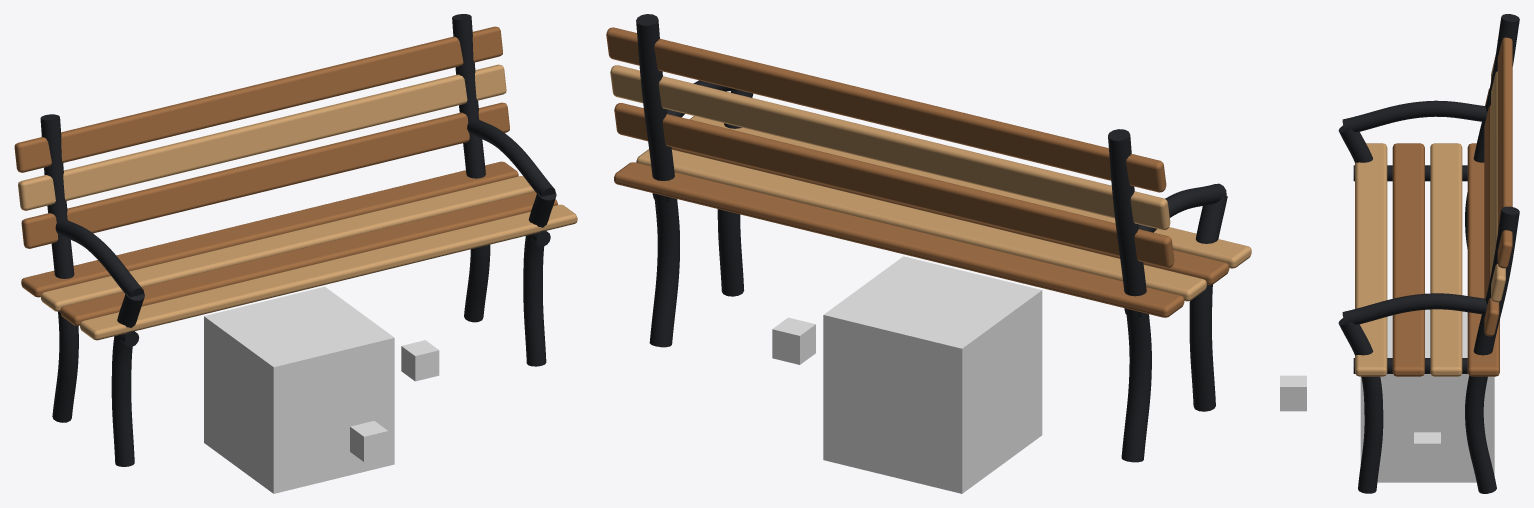
File: Bench.fbx
3 renders of one model, left to right at view 1: azimuth 30°, elevation 25°; view 2: azimuth 150°, elevation 25°; view 3: azimuth 270°, elevation 25°, orthographic. The views are drawn at different scales.
Parts seen in each view (by area): view 1: Body__Wood, Body__WoodLight, Origin__Pivot, Body__Black, Origin__AxisX, Origin__AxisZ; view 2: Body__Wood, Origin__Pivot, Body__WoodLight, Body__Black, Origin__AxisX; view 3: Body__Wood, Body__WoodLight, Body__Black, Origin__Pivot, Origin__AxisZ, Origin__AxisX.
Part boxes in pixels (x1=…): Body__Wood: x1=14, y1=26, x2=557, y2=325; Body__WoodLight: x1=18, y1=64, x2=577, y2=340; Origin__Pivot: x1=204, y1=286, x2=394, y2=493; Body__Black: x1=40, y1=14, x2=556, y2=466; Origin__AxisX: x1=401, y1=340, x2=439, y2=381; Origin__AxisZ: x1=350, y1=421, x2=388, y2=461; Body__Wood: x1=606, y1=27, x2=1229, y2=317; Origin__Pivot: x1=823, y1=256, x2=1042, y2=493; Body__WoodLight: x1=610, y1=65, x2=1251, y2=301; Body__Black: x1=636, y1=14, x2=1227, y2=462; Origin__AxisX: x1=772, y1=317, x2=815, y2=364; Body__Wood: x1=1392, y1=37, x2=1512, y2=376; Body__WoodLight: x1=1355, y1=55, x2=1505, y2=376; Body__Black: x1=1338, y1=14, x2=1519, y2=493; Origin__Pivot: x1=1360, y1=309, x2=1494, y2=482; Origin__AxisZ: x1=1280, y1=375, x2=1306, y2=411; Origin__AxisX: x1=1414, y1=432, x2=1440, y2=467.
Size of the model in its own units: 4 by 2.81 by 1.79.
